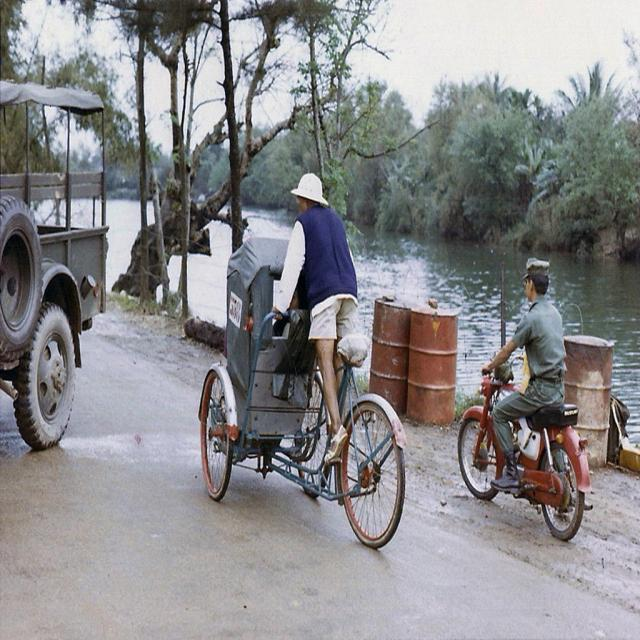bus: (466, 373, 594, 540)
